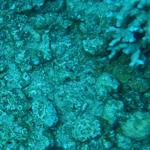dead: (1, 1, 146, 145)
